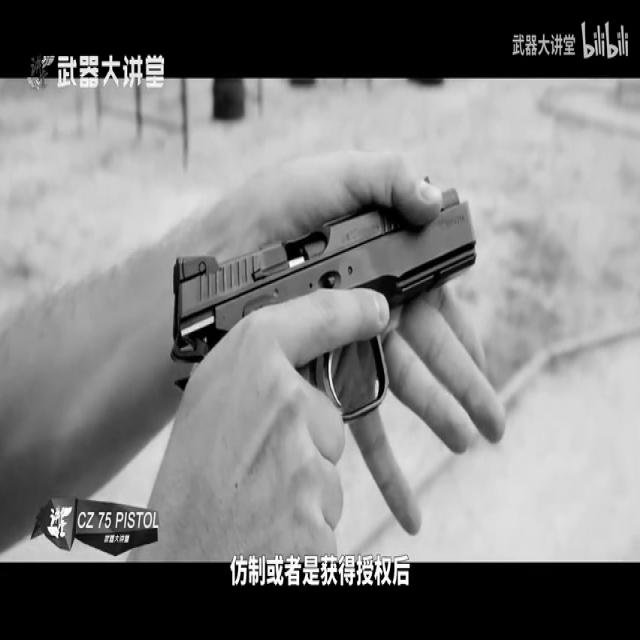Hand-Gun: (152, 0, 507, 593)
